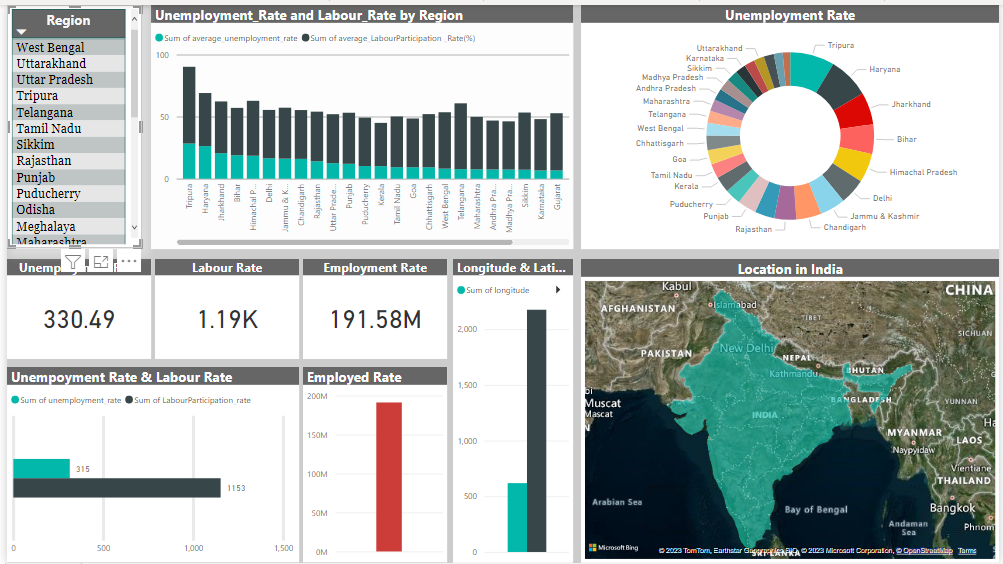

The page's visual inventory and layout, read from the dashboard file:
{"tool":"powerbi","page":{"name":"Page 1","canvas":[1280,720],"ordinal":0},"visuals":[{"type":"tableEx","fields":{"Values":["unemployment average (2).Region"]},"box":[0,0,172.9,313.5],"z":0},{"type":"lineStackedColumnComboChart","title":"Unemployment_Rate and Labour_Rate by Region","fields":{"Category":["unemployment avg_rate.Region"],"Y":["Sum(unemployment avg_rate.average_unemployment_rate)","Sum(unemployment avg_rate.average_LabourParticipation _Rate(%))"]},"box":[185.8,0,545,315.2],"z":1000},{"type":"donutChart","title":"Unemployment Rate","fields":{"Category":["unemployment avg_rate.Region"],"Y":["Sum(unemployment avg_rate.average_unemployment_rate)"]},"box":[740.5,0,539.5,315.2],"z":2000},{"type":"filledMap","title":"Location in India","fields":{"Category":["unemployment average.STATE"]},"box":[740,327.7,540,392.3],"z":3000},{"type":"lineClusteredColumnComboChart","title":"Longitude & Latitude","fields":{"Y":["Sum(unemployment average.longitude)","Sum(unemployment average.latitude)"]},"box":[575.4,327.7,155.4,392.3],"z":4000},{"type":"card","title":"Unemployment Rate","fields":{"Values":["Sum(unemployment avg_rate.average_unemployment_rate)"]},"box":[0,327.7,186.2,129.2],"z":5000},{"type":"card","title":"Labour Rate","fields":{"Values":["Sum(unemployment avg_rate.average_LabourParticipation _Rate(%))"]},"box":[190.8,327.7,186.2,129.2],"z":6000},{"type":"card","title":"Employment Rate","fields":{"Values":["Sum(unemployment avg_rate.average_Employed)"]},"box":[381.5,327.7,186.2,129.2],"z":7000},{"type":"clusteredBarChart","title":"Unempoyment Rate & Labour Rate","fields":{"Y":["Sum(unemployment average.unemployment_rate)","Sum(unemployment average.LabourParticipation_rate)"]},"box":[0,467.7,376.9,252.3],"z":8000},{"type":"clusteredColumnChart","title":"Employed Rate","fields":{"Y":["Sum(unemployment average.average_Employed)"]},"box":[381.5,467.7,186.2,252.3],"z":9000}]}

Visuals, with their boxes in screenshot pixels (x1, y1, x2, y2), scaled from the page's 1280x720 canvas onto the 1003x564 screenshot:
tableEx - unemployment average (2).Region: bbox(0, 0, 135, 246)
"Unemployment_Rate and Labour_Rate by Region" lineStackedColumnComboChart: bbox(146, 0, 573, 247)
"Unemployment Rate" donutChart: bbox(580, 0, 1002, 247)
"Location in India" filledMap: bbox(580, 257, 1002, 563)
"Longitude & Latitude" lineClusteredColumnComboChart: bbox(451, 257, 573, 563)
"Unemployment Rate" card: bbox(0, 257, 146, 358)
"Labour Rate" card: bbox(150, 257, 295, 358)
"Employment Rate" card: bbox(299, 257, 445, 358)
"Unempoyment Rate & Labour Rate" clusteredBarChart: bbox(0, 366, 295, 563)
"Employed Rate" clusteredColumnChart: bbox(299, 366, 445, 563)
